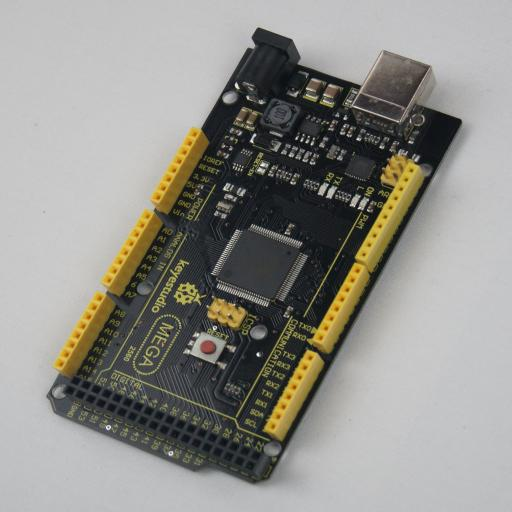Arduino Mega 2560 -Black and Yellow-: (46, 28, 462, 484)
